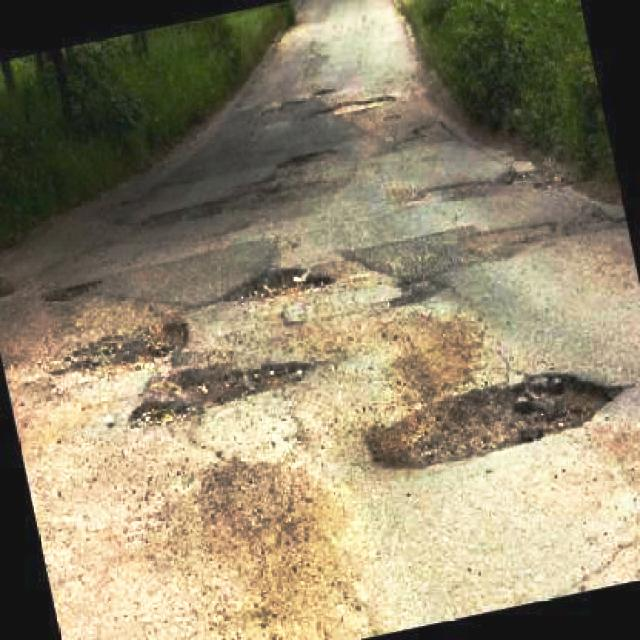pothole: (362, 363, 629, 475), (124, 358, 304, 424), (72, 318, 196, 376), (143, 186, 272, 237), (226, 262, 339, 303), (311, 94, 395, 118), (43, 274, 105, 306), (403, 271, 449, 311), (280, 150, 331, 172)
